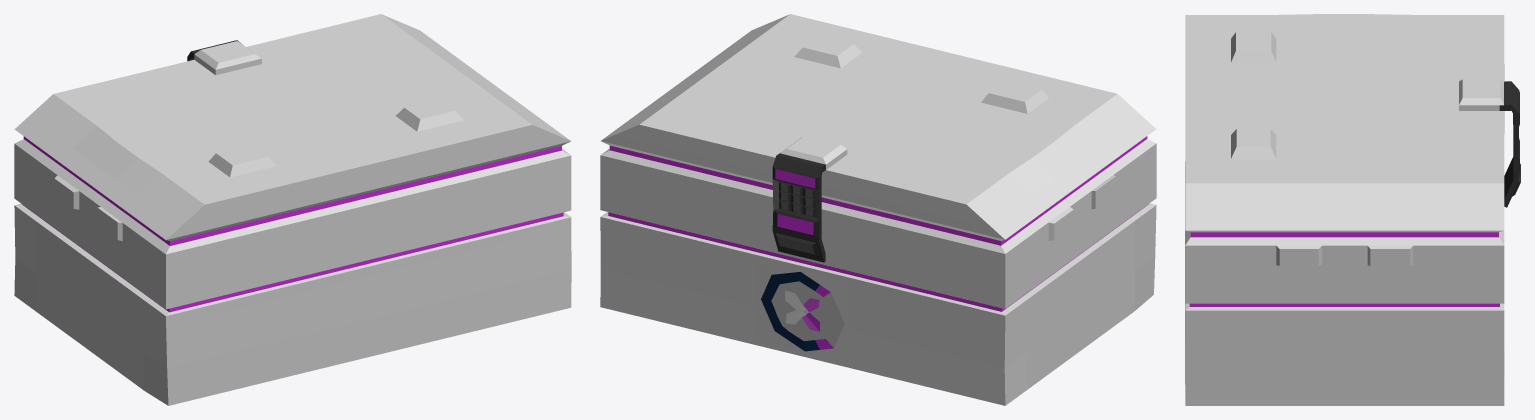
File: caja tic.fbx
3 views of the same model, side by side, from view 1: azimuth 30°, elevation 25°; view 2: azimuth 150°, elevation 25°; view 3: azimuth 270°, elevation 25° (orthographic). The views are drawn at different scales.
Visible parts, largest first — view 1: Caja de Ticoins; view 2: Caja de Ticoins; view 3: Caja de Ticoins.
Part boxes in pixels (left/top/right/bottom): Caja de Ticoins: left=14, top=14, right=571, bottom=405; Caja de Ticoins: left=600, top=14, right=1156, bottom=405; Caja de Ticoins: left=1185, top=14, right=1520, bottom=405.
Bounding box in the file's own units: 150 × 70 × 100.
1 material, 1 textured.
